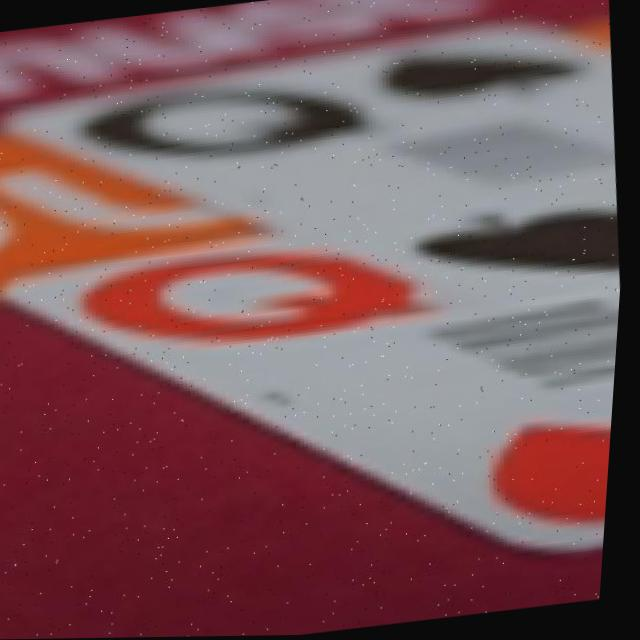Card-Q: (7, 234, 623, 549), (4, 17, 623, 313)
